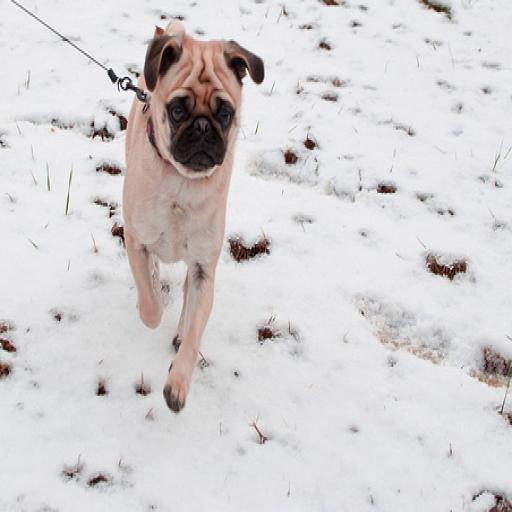dog_face: (140, 20, 263, 187)
